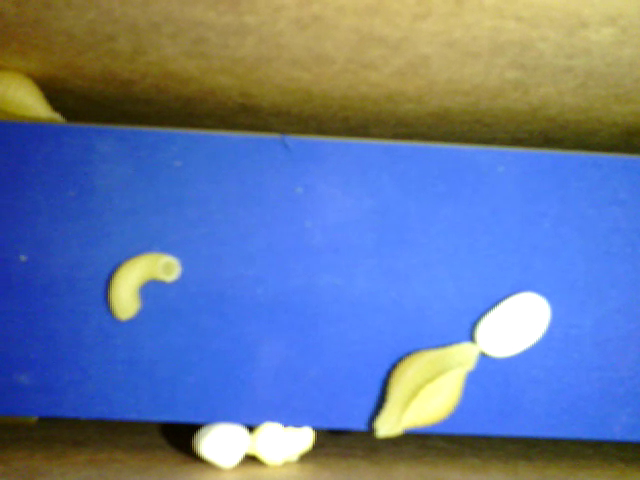elbow: (106, 251, 181, 320)
shell: (371, 338, 479, 442), (1, 65, 71, 126)
